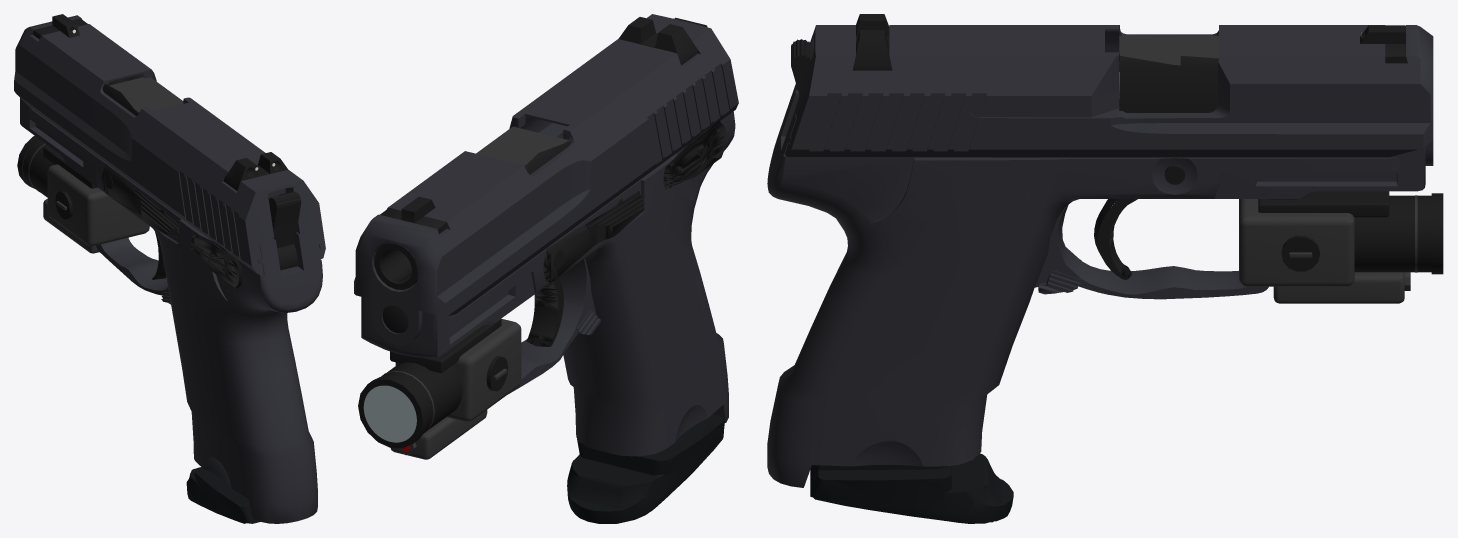
Rendered from prota.holster-usp.glb.
3 views of the same model, side by side, from view 1: azimuth 30°, elevation 25°; view 2: azimuth 150°, elevation 25°; view 3: azimuth 270°, elevation 25° (orthographic). The views are drawn at different scales.
Visible parts, largest first — view 1: FrameShell, SlideShell_0, ModuleHousing, MagazineBody, Slide_Release, Sights, Hammer, ChamberExterior, Control_lever, TorchTube, ModuleRailClamp, BarrelExterior (+1 smaller); view 2: SlideShell_0, FrameShell, MagazineBody, ModuleHousing, Slide_Release, Sights, TorchTube, TorchLens, Control_lever, ChamberExterior, TriggerBlade, TorchBezel (+6 smaller); view 3: FrameShell, SlideShell_0, MagazineBody, ModuleHousing, BarrelExterior, TorchTube, Sights, LowerLaserHousing, ModuleRailClamp, ChamberExterior, TriggerBlade, TorchBezel (+2 smaller).
Part boxes in pixels (x1=…): FrameShell: x1=20, y1=98, x2=322, y2=523; SlideShell_0: x1=14, y1=15, x2=325, y2=274; ModuleHousing: x1=47, y1=164, x2=149, y2=246; MagazineBody: x1=186, y1=467, x2=259, y2=523; Slide_Release: x1=101, y1=163, x2=179, y2=237; Sights: x1=33, y1=14, x2=287, y2=190; Hammer: x1=269, y1=191, x2=301, y2=270; ChamberExterior: x1=109, y1=77, x2=183, y2=113; Control_lever: x1=190, y1=233, x2=242, y2=288; TorchTube: x1=23, y1=139, x2=54, y2=197; ModuleRailClamp: x1=43, y1=145, x2=97, y2=188; BarrelExterior: x1=102, y1=78, x2=183, y2=116; SlideShell_0: x1=354, y1=14, x2=738, y2=345; FrameShell: x1=361, y1=18, x2=735, y2=456; MagazineBody: x1=567, y1=415, x2=724, y2=523; ModuleHousing: x1=395, y1=319, x2=521, y2=421; Slide_Release: x1=543, y1=191, x2=644, y2=282; Sights: x1=380, y1=17, x2=697, y2=233; TorchTube: x1=383, y1=362, x2=462, y2=432; TorchLens: x1=363, y1=385, x2=416, y2=442; Control_lever: x1=663, y1=121, x2=726, y2=189; ChamberExterior: x1=476, y1=126, x2=568, y2=165; TriggerBlade: x1=526, y1=277, x2=563, y2=346; TorchBezel: x1=358, y1=375, x2=428, y2=448; FrameShell: x1=767, y1=39, x2=1425, y2=487; SlideShell_0: x1=785, y1=25, x2=1433, y2=165; MagazineBody: x1=810, y1=453, x2=1013, y2=523; ModuleHousing: x1=1239, y1=199, x2=1354, y2=286; BarrelExterior: x1=1119, y1=53, x2=1218, y2=112; TorchTube: x1=1354, y1=195, x2=1431, y2=272; Sights: x1=852, y1=14, x2=1407, y2=70; LowerLaserHousing: x1=1273, y1=272, x2=1404, y2=303; ModuleRailClamp: x1=1258, y1=191, x2=1389, y2=217; ChamberExterior: x1=1119, y1=36, x2=1218, y2=110; TriggerBlade: x1=1097, y1=199, x2=1137, y2=279; TorchBezel: x1=1431, y1=193, x2=1443, y2=274.
Bounding box in the file's own units: 0.0332 × 0.1387 × 0.1756.
